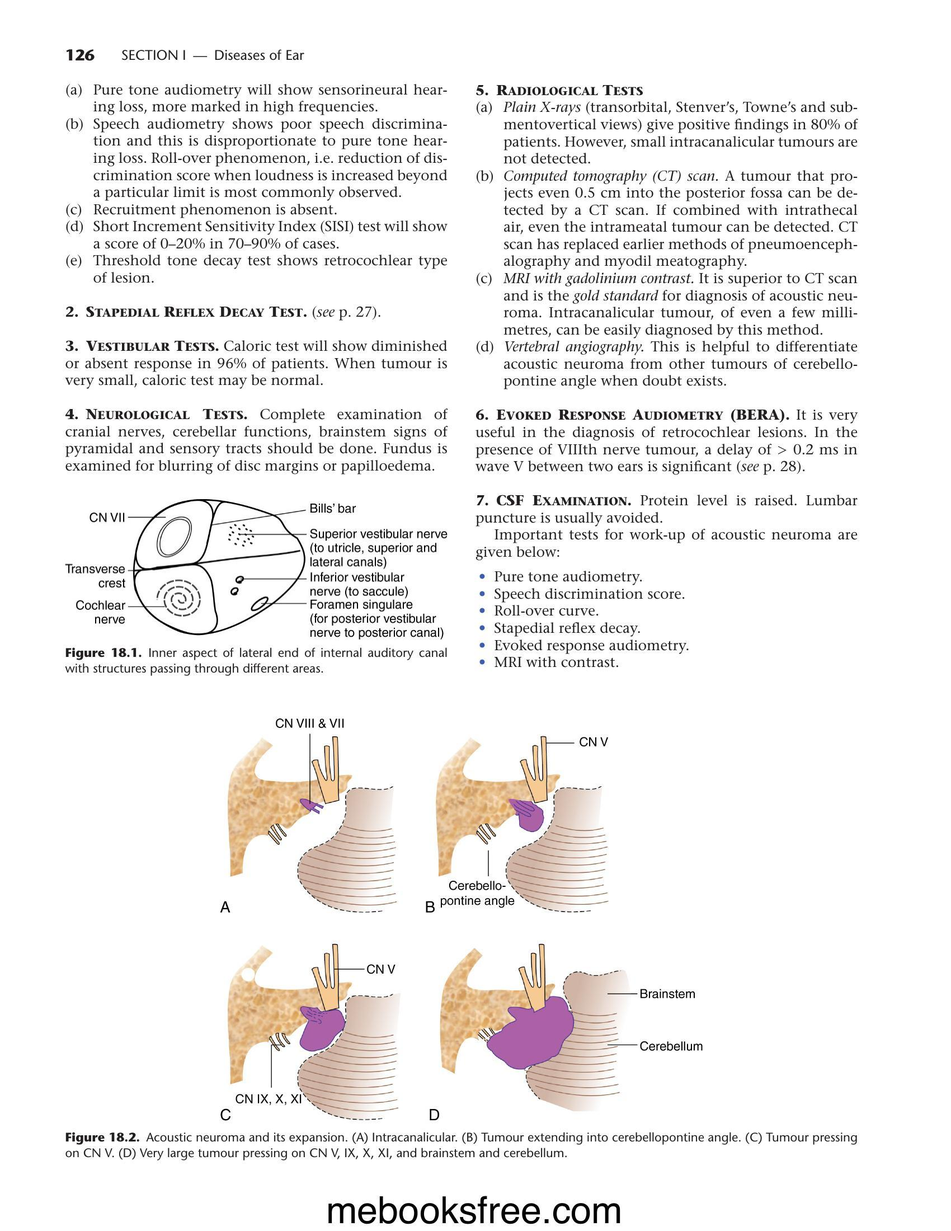caption: (62, 1128, 859, 1161), (64, 646, 448, 677), (219, 1107, 233, 1122), (428, 1107, 441, 1122), (424, 899, 436, 914), (219, 900, 231, 914)
header: (121, 48, 305, 62)
image: (62, 488, 457, 644), (418, 936, 709, 1126), (419, 710, 619, 922), (215, 711, 405, 920), (211, 937, 408, 1125)
list: (475, 82, 860, 670), (476, 99, 860, 391), (64, 82, 449, 284), (62, 302, 451, 478), (477, 568, 692, 669)
